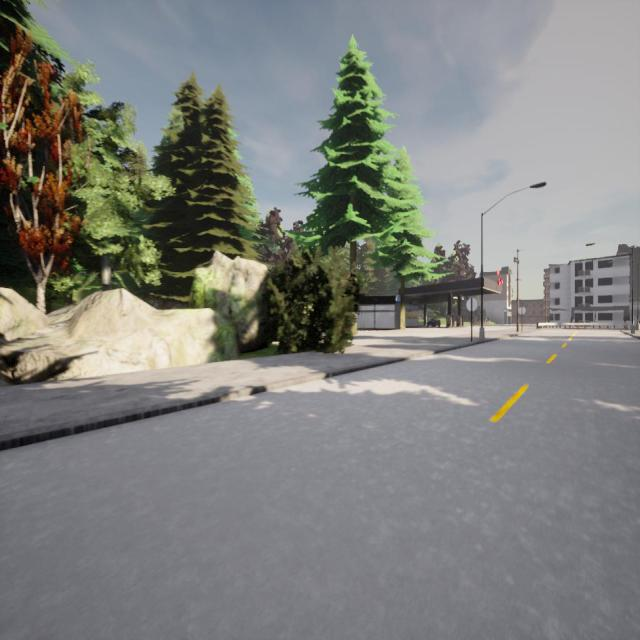Traffic_Signs: (466, 298, 478, 312), (518, 306, 527, 316)
Vehicle: (427, 318, 441, 327)
